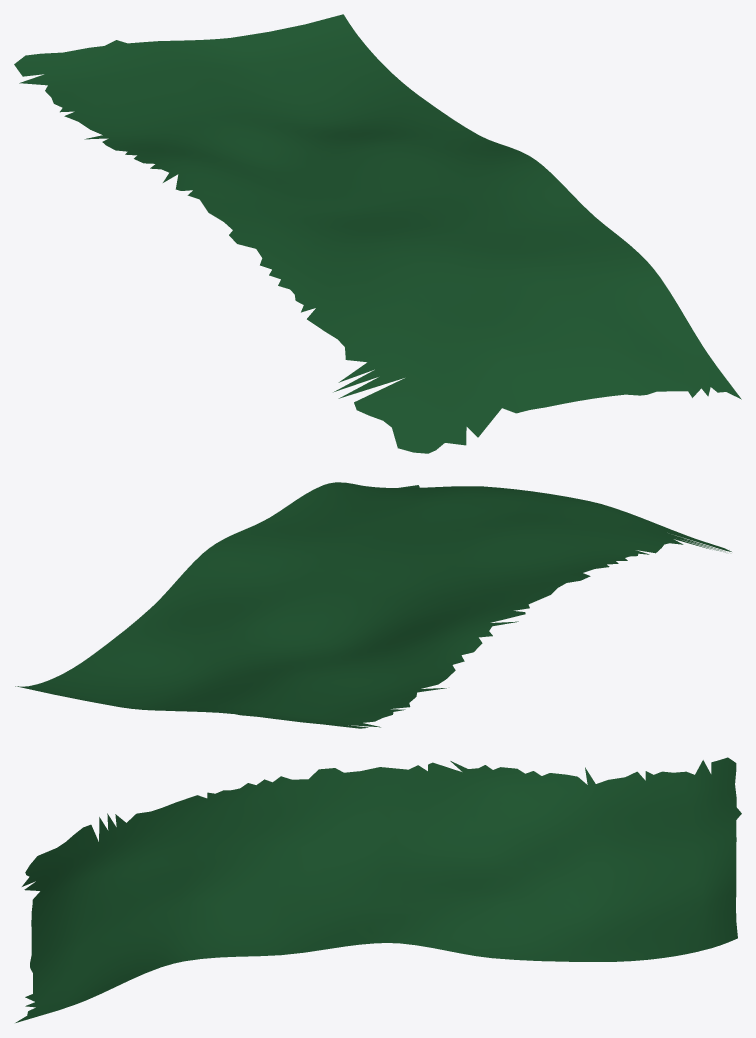
Rendered from payo_land_xm5_y0.glb.
3 renders of one model, top to bottom at view 1: azimuth 30°, elevation 25°; view 2: azimuth 150°, elevation 25°; view 3: azimuth 270°, elevation 25°, orthographic. The views are drawn at different scales.
Parts seen in each view (by area): view 1: payo_land_xm5_y0; view 2: payo_land_xm5_y0; view 3: payo_land_xm5_y0.
Boxes of the visible parts, bbox=[...] form: payo_land_xm5_y0: bbox=[14, 14, 741, 453]; payo_land_xm5_y0: bbox=[15, 482, 731, 728]; payo_land_xm5_y0: bbox=[15, 757, 741, 1022].
Bounding box in the file's own units: 136 × 47.68 × 264.
